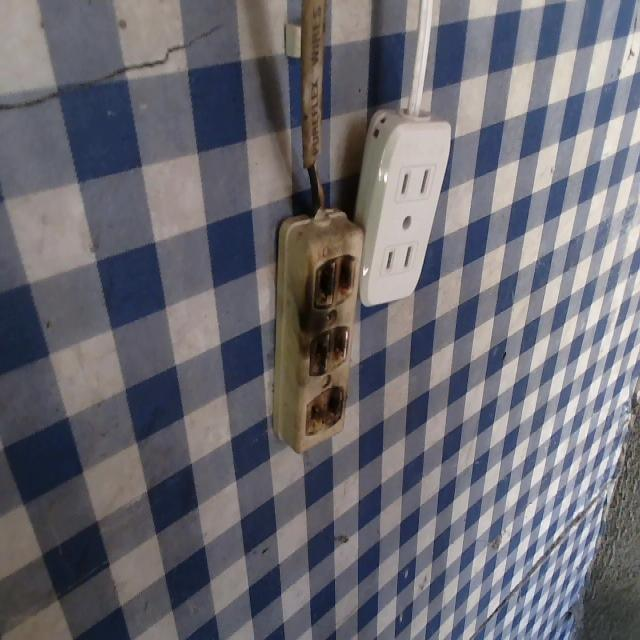-: (299, 376, 357, 439), (310, 252, 358, 312), (308, 323, 352, 373)
